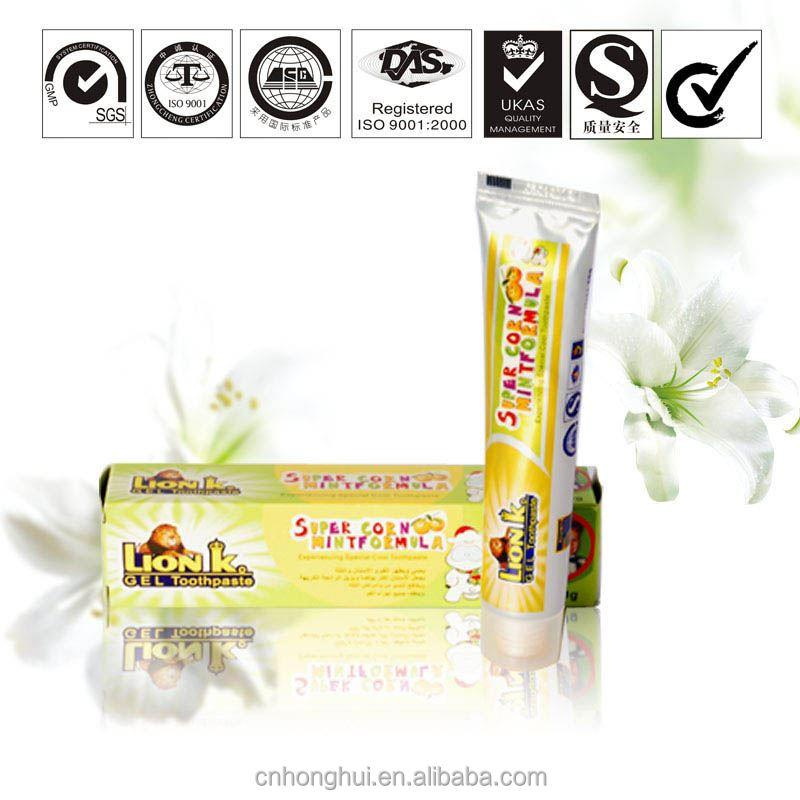toothpaste: (448, 169, 603, 710)
